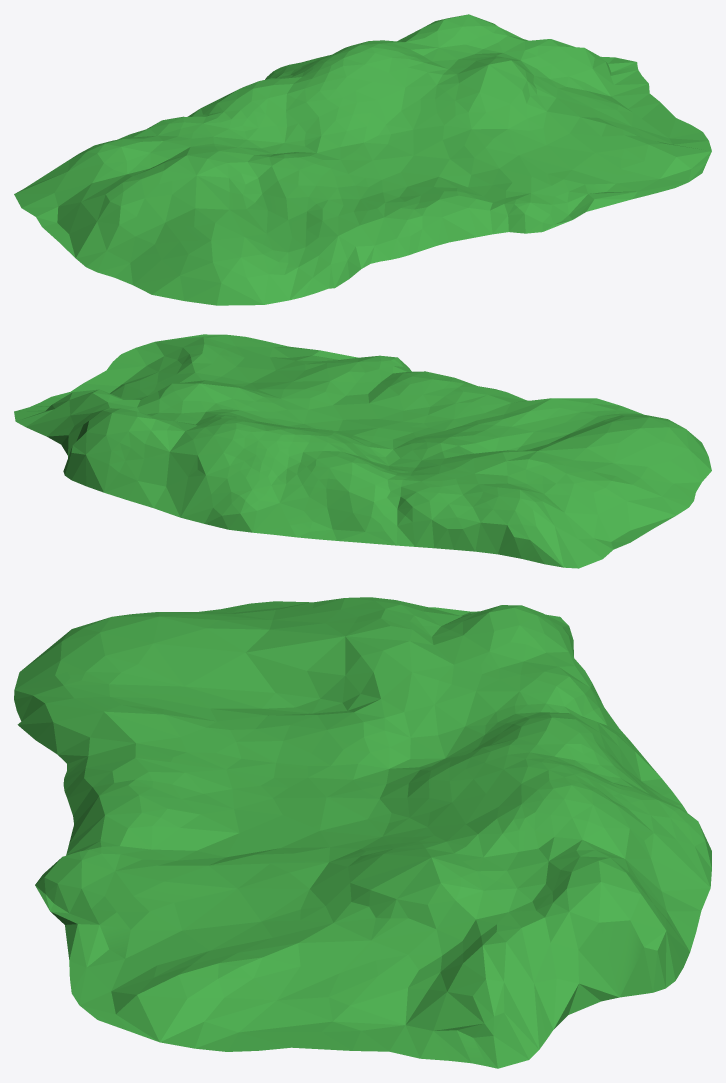
The model's file is mountain_009.glb.
3 renders of one model, top to bottom at view 1: azimuth 30°, elevation 25°; view 2: azimuth 150°, elevation 25°; view 3: azimuth 270°, elevation 25°, orthographic. The views are drawn at different scales.
Visible parts, largest first — view 1: mountain_009; view 2: mountain_009; view 3: mountain_009.
Part boxes in pixels (x1,y1,x2,y2): mountain_009: (14, 14, 711, 305); mountain_009: (14, 334, 711, 568); mountain_009: (14, 597, 711, 1068).
Size of the model in its own units: 355 by 35.16 by 224.
1 material, 1 textured.
